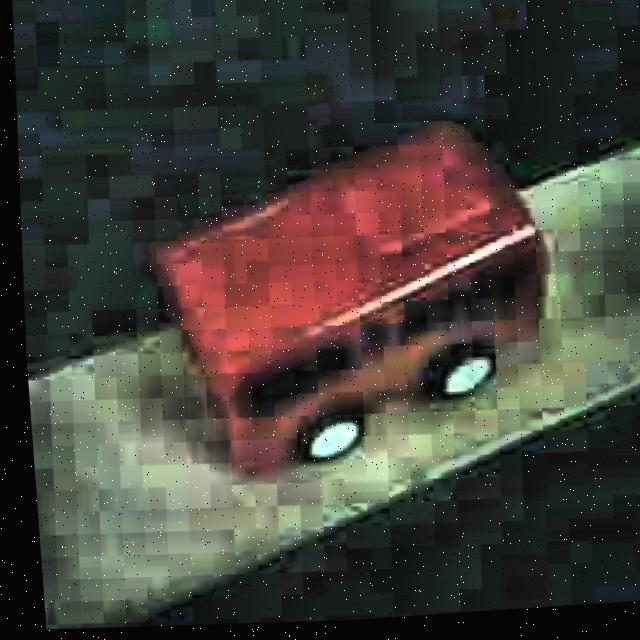bus: (130, 99, 566, 498)
